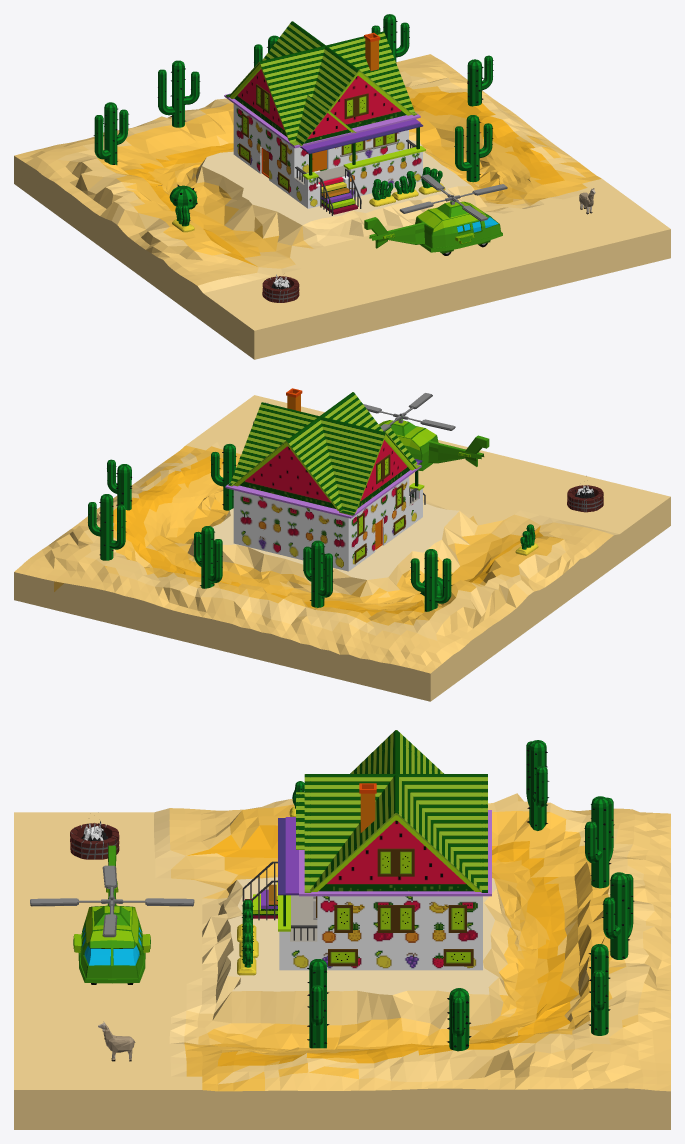
3 views of the same model, one above another, from view 1: azimuth 30°, elevation 25°; view 2: azimuth 150°, elevation 25°; view 3: azimuth 270°, elevation 25° (orthographic). The views are drawn at different scales.
Parts seen in each view (by area): view 1: Cube.001, Cube.1063, VEHICLES_HELICOPTER, Cylinder.037, Cylinder.044, Cylinder.045, Cylinder.038, OBJRANDOM_CAMPFIRE, Cylinder.042, Cylinder.039, Sphere.023, Cylinder.040; view 2: Cube.001, Cube.1063, VEHICLES_HELICOPTER, Cylinder.042, Cylinder.045, Cylinder.044, Cylinder.043, Cylinder.037, Cylinder.038, OBJRANDOM_CAMPFIRE; view 3: Cube.001, Cube.1063, VEHICLES_HELICOPTER, Cylinder.043, Cylinder.044, Cylinder.045, Cylinder.042, Cylinder.037, OBJRANDOM_CAMPFIRE, Cylinder.038, ANIMAL_LLAMA, Cylinder.041.
Boxes of the visible parts, x1,y1,x2,y2 form: Cube.001: [14, 54, 670, 359]; Cube.1063: [224, 21, 425, 215]; VEHICLES_HELICOPTER: [364, 174, 507, 255]; Cylinder.037: [454, 115, 493, 182]; Cylinder.044: [157, 60, 200, 127]; Cylinder.045: [93, 102, 129, 164]; Cylinder.038: [467, 55, 493, 106]; OBJRANDOM_CAMPFIRE: [262, 274, 299, 302]; Cylinder.042: [371, 14, 409, 62]; Cylinder.039: [369, 179, 395, 206]; Sphere.023: [169, 184, 197, 209]; Cylinder.040: [392, 171, 418, 200]; Cube.001: [14, 395, 670, 701]; Cube.1063: [225, 388, 425, 571]; VEHICLES_HELICOPTER: [363, 393, 489, 470]; Cylinder.042: [88, 494, 126, 560]; Cylinder.045: [410, 549, 452, 611]; Cylinder.044: [303, 540, 333, 607]; Cylinder.043: [193, 526, 222, 588]; Cylinder.037: [211, 444, 240, 510]; Cylinder.038: [107, 459, 131, 510]; OBJRANDOM_CAMPFIRE: [567, 484, 603, 512]; Cube.001: [14, 793, 670, 1129]; Cube.1063: [242, 730, 491, 970]; VEHICLES_HELICOPTER: [30, 845, 194, 984]; Cylinder.043: [602, 872, 634, 959]; Cylinder.044: [584, 796, 614, 888]; Cylinder.045: [526, 740, 549, 830]; Cylinder.042: [588, 944, 610, 1035]; Cylinder.037: [307, 959, 329, 1048]; OBJRANDOM_CAMPFIRE: [70, 821, 119, 859]; Cylinder.038: [447, 988, 471, 1051]; ANIMAL_LLAMA: [98, 1021, 135, 1061]; Cylinder.041: [237, 932, 256, 975].
Bounding box in the file's own units: 4002 × 1635 × 4001.
31 materials, 4 textured.
